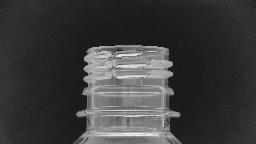No Cap: (65, 40, 187, 122)
